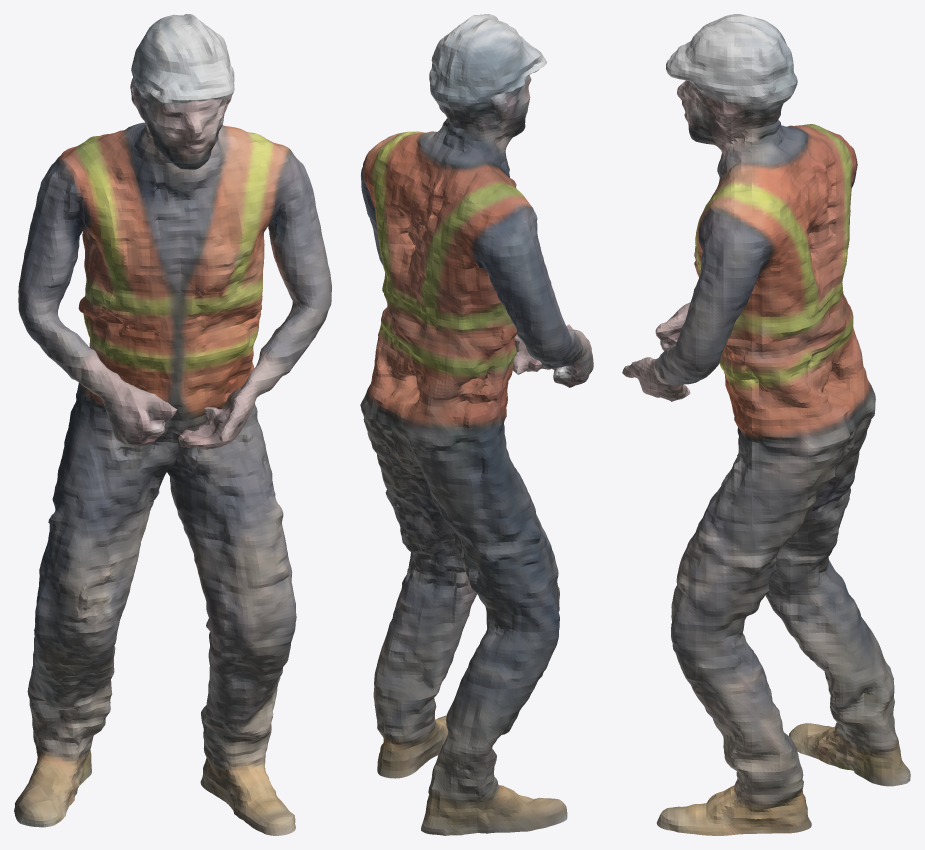
File: standup_17.glb
3 views of the same model, side by side, from view 1: azimuth 30°, elevation 25°; view 2: azimuth 150°, elevation 25°; view 3: azimuth 270°, elevation 25° (orthographic). The views are drawn at different scales.
Visible parts, largest first — view 1: world; view 2: world; view 3: world.
Part boxes in pixels (left/top/right/bottom): world: left=14, top=14, right=331, bottom=835; world: left=360, top=14, right=593, bottom=835; world: left=622, top=14, right=910, bottom=835.
Size of the model in its own units: 0.6413 by 1.92 by 0.6449.
